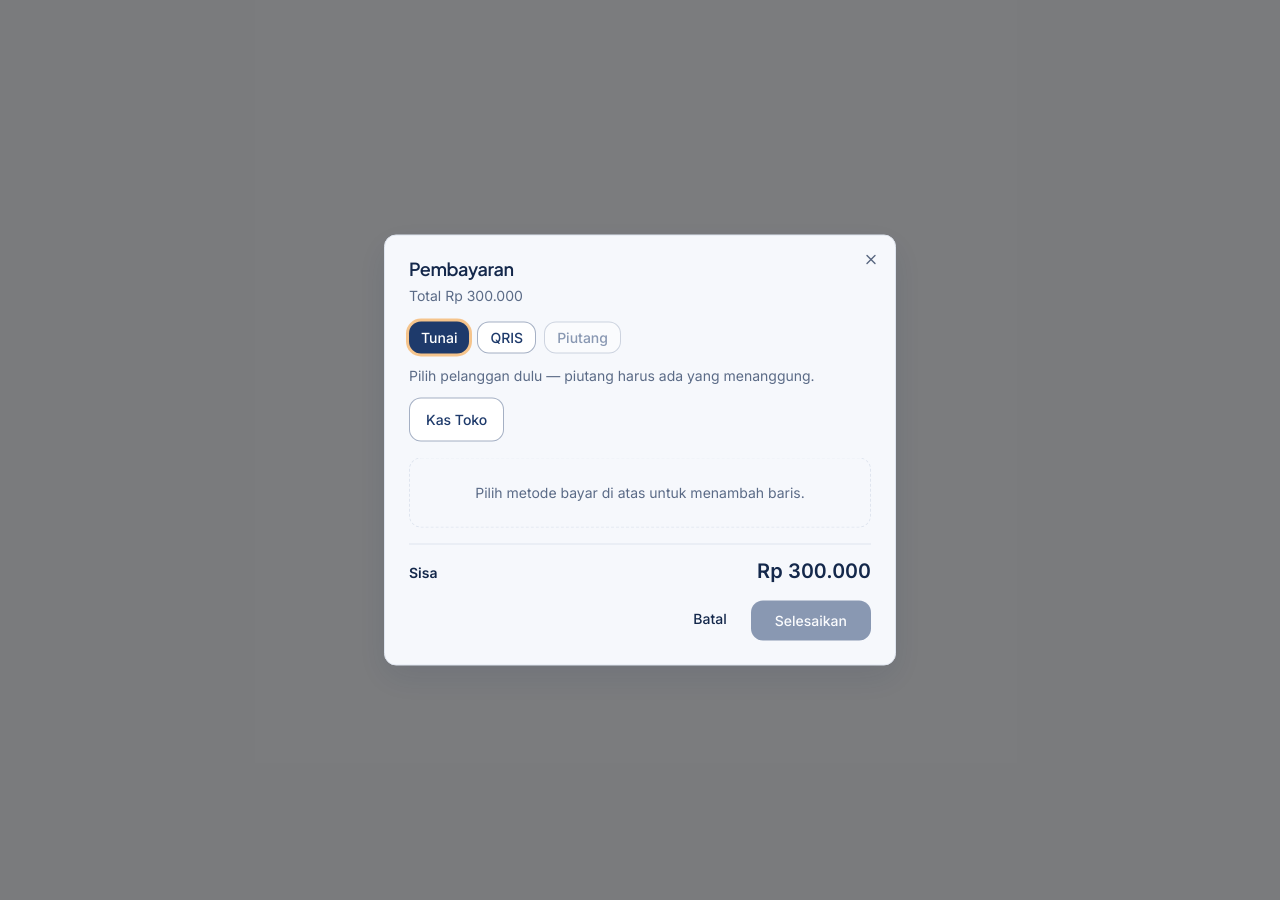
Test: PosPaymentDialog — the remainder › treats cash tendered above the bill as CHANGE, not an overpayment
Click the button "Kas Toko" at (457, 420), box [409,398,504,442]
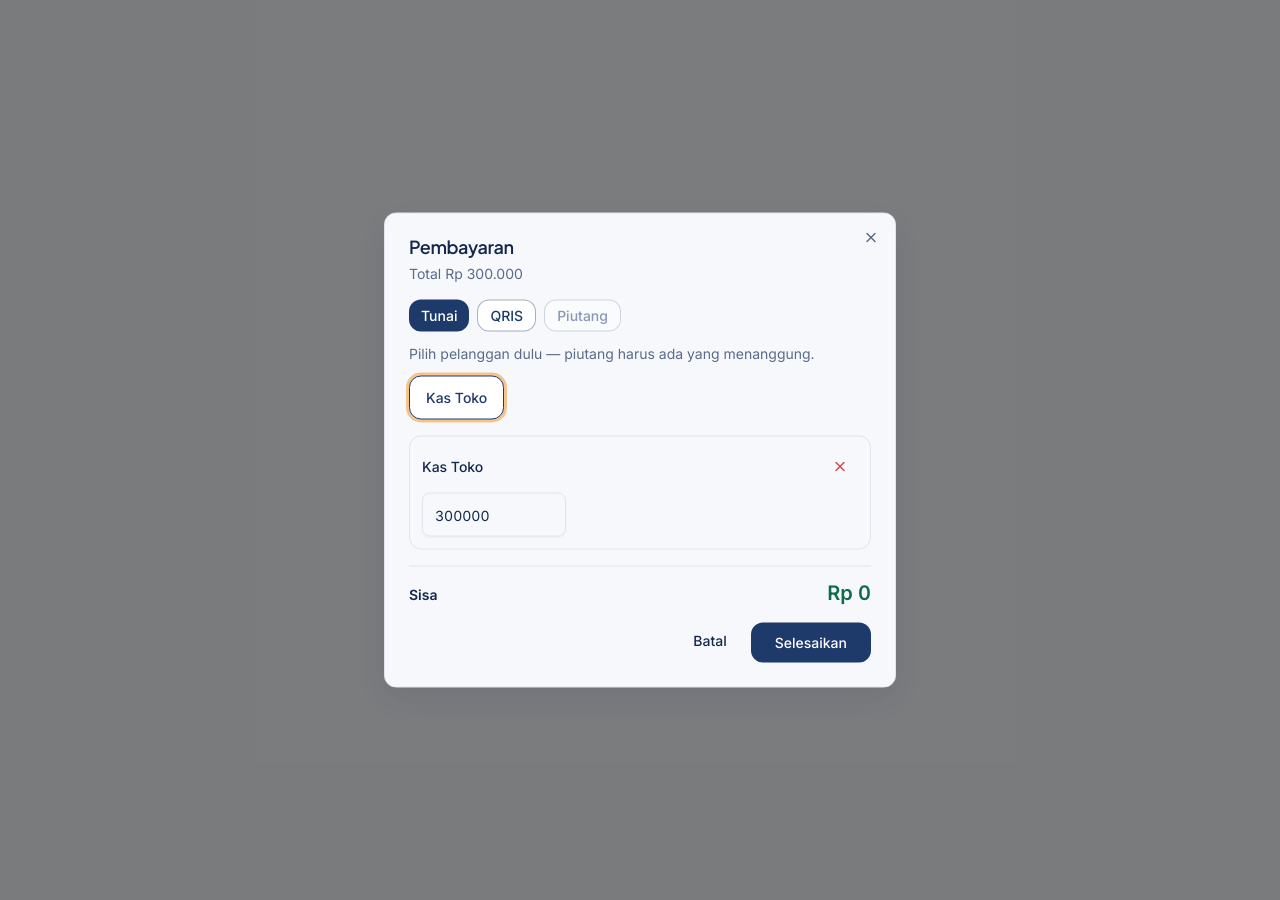
Replace the text in the field named "jumlah kas toko" with "350000" at (494, 514), box [422,492,566,536]
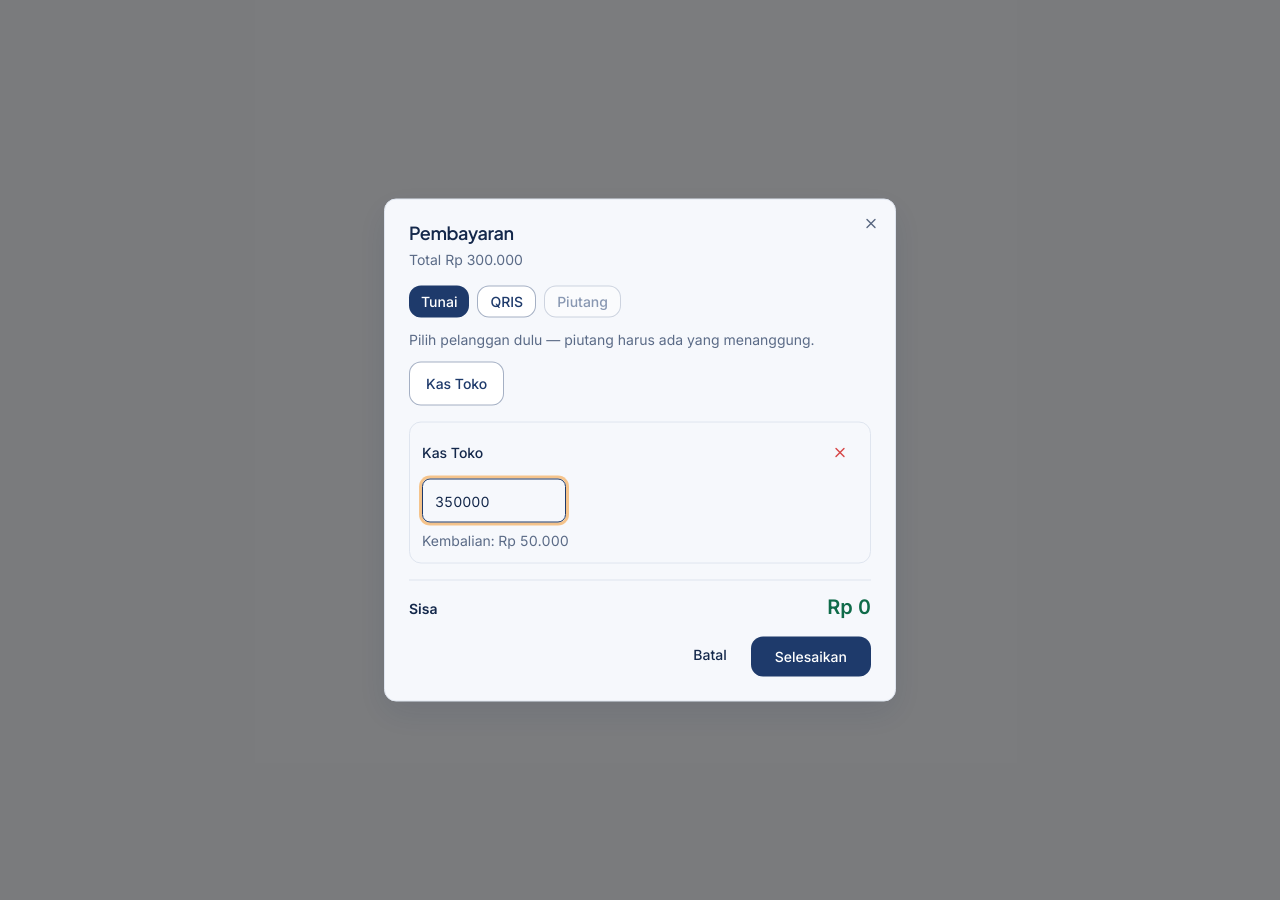
Expected: the text "Kembalian: Rp 50.000" is shown, [422,532,569,548]
Expected: the button "Selesaikan" is enabled, [751,636,871,676]
